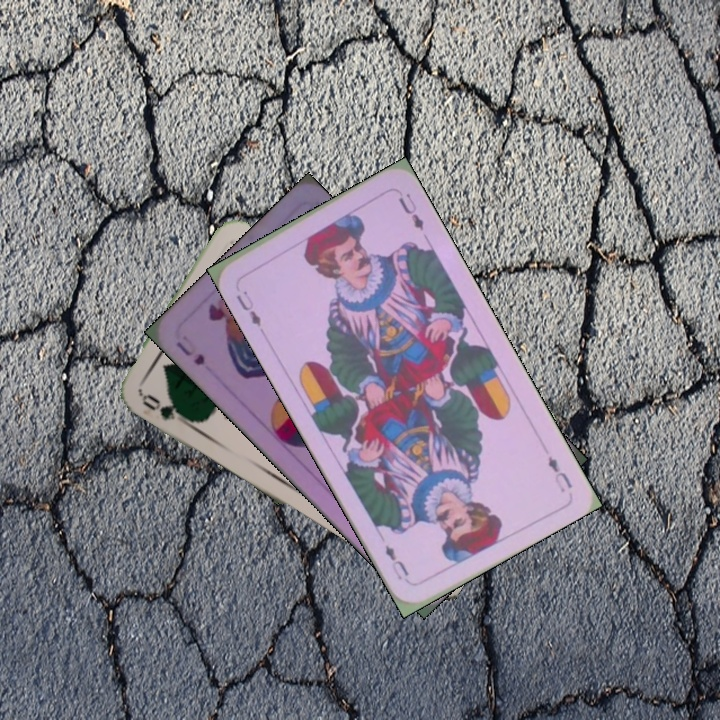EU: (543, 452, 575, 495), (232, 287, 264, 329)
GO: (137, 390, 194, 429)
SU: (171, 337, 207, 368)
